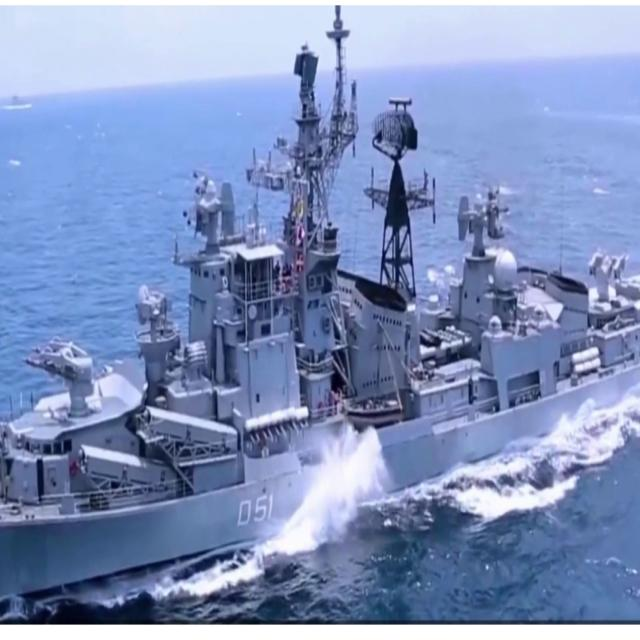OCR: (226, 484, 276, 536)
